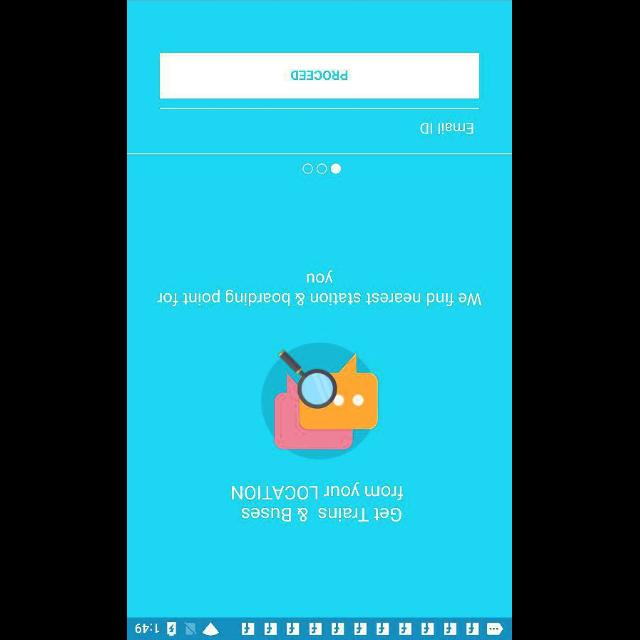image: (262, 342, 381, 461)
input: (160, 108, 480, 134)
pageindicator: (302, 162, 342, 174)
text: (158, 268, 482, 308), (232, 482, 404, 522), (421, 122, 474, 134)
textbutton: (160, 52, 480, 100)
uppertaskbar: (128, 617, 512, 639)
